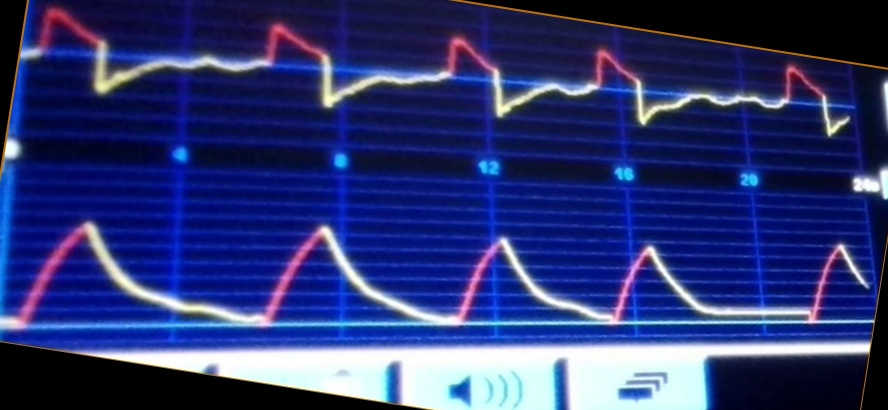Ineffective_effort Flow: (27, 6, 849, 138)
Ineffective_effort Volume: (5, 215, 869, 331)
